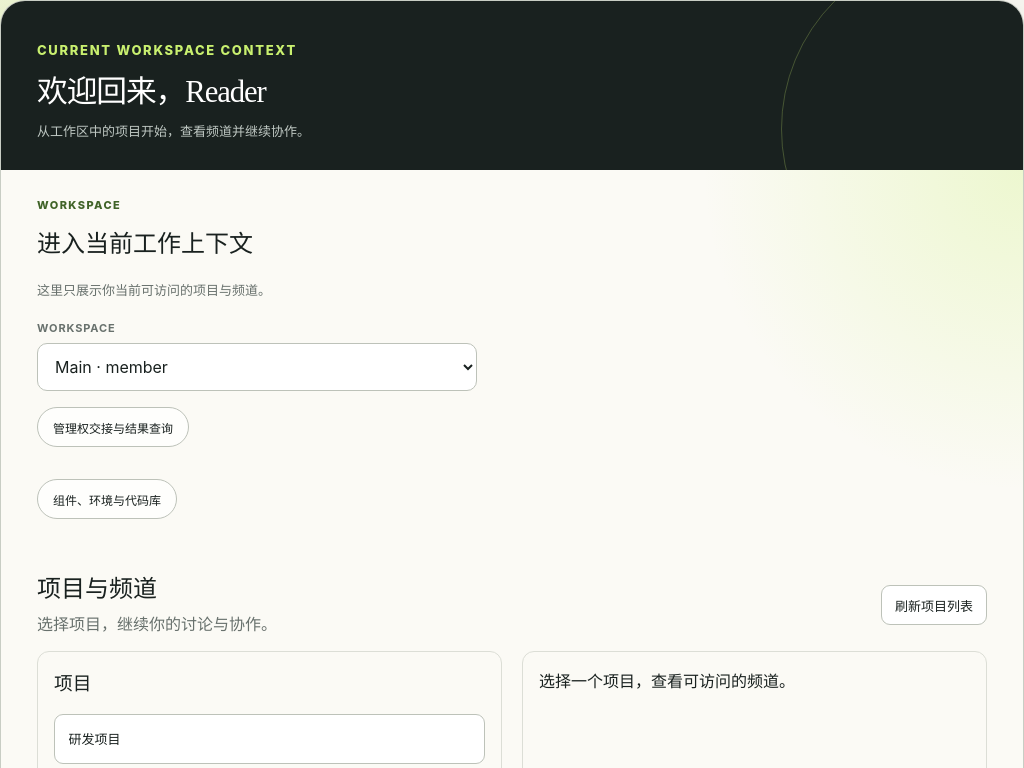
Test case: Workspace discovery › replaces pages and re-fetches previous pages instead of keeping old results
Click the button "研发项目": click(95, 739) 54,714 -> 485,764
(page scrolled)
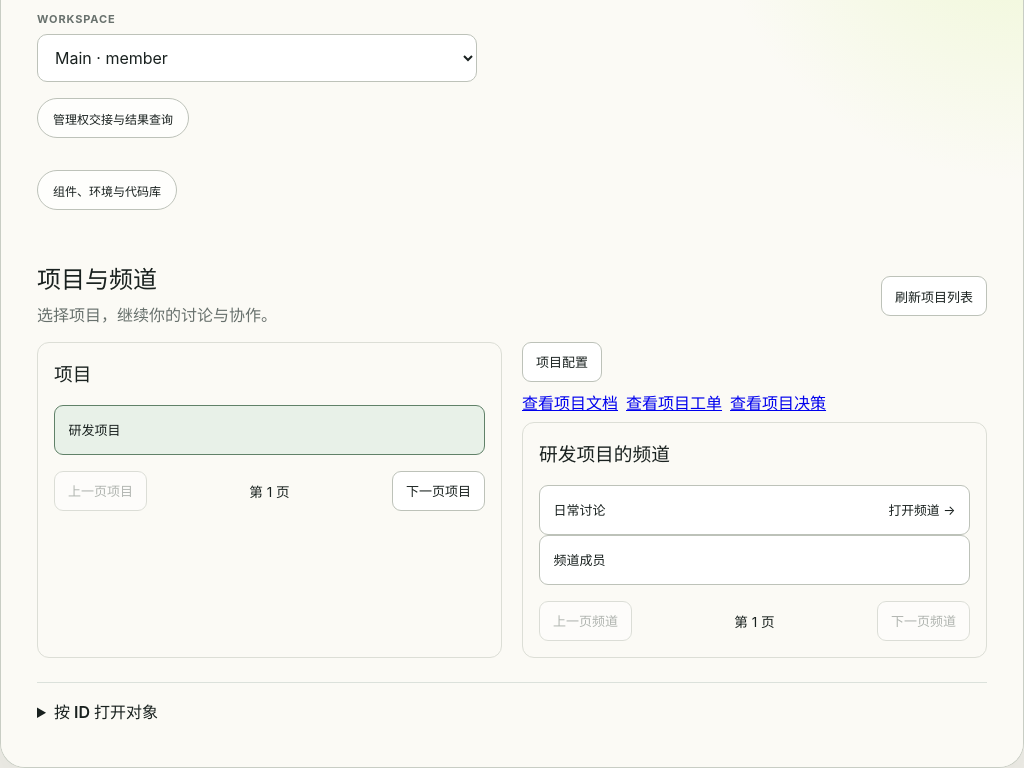
Expected: the text "日常讨论" is shown, 554,500 -> 606,519
Click the button "下一页项目": click(438, 490) 392,470 -> 485,510
(page scrolled)
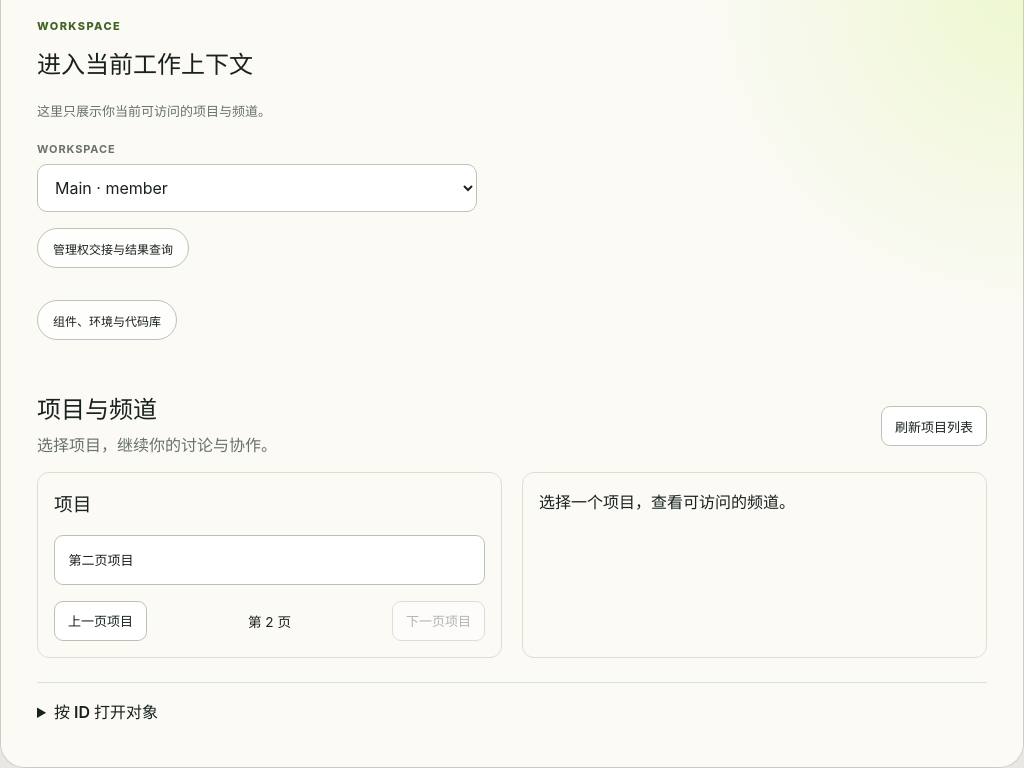
Expected: the button "日常讨论" is gone
Expected: the button "研发项目" is gone
Expected: the button "第二页项目" is shown, 54,534 -> 485,584
Click the button "上一页项目": click(100, 620) 54,600 -> 147,640
(page scrolled)
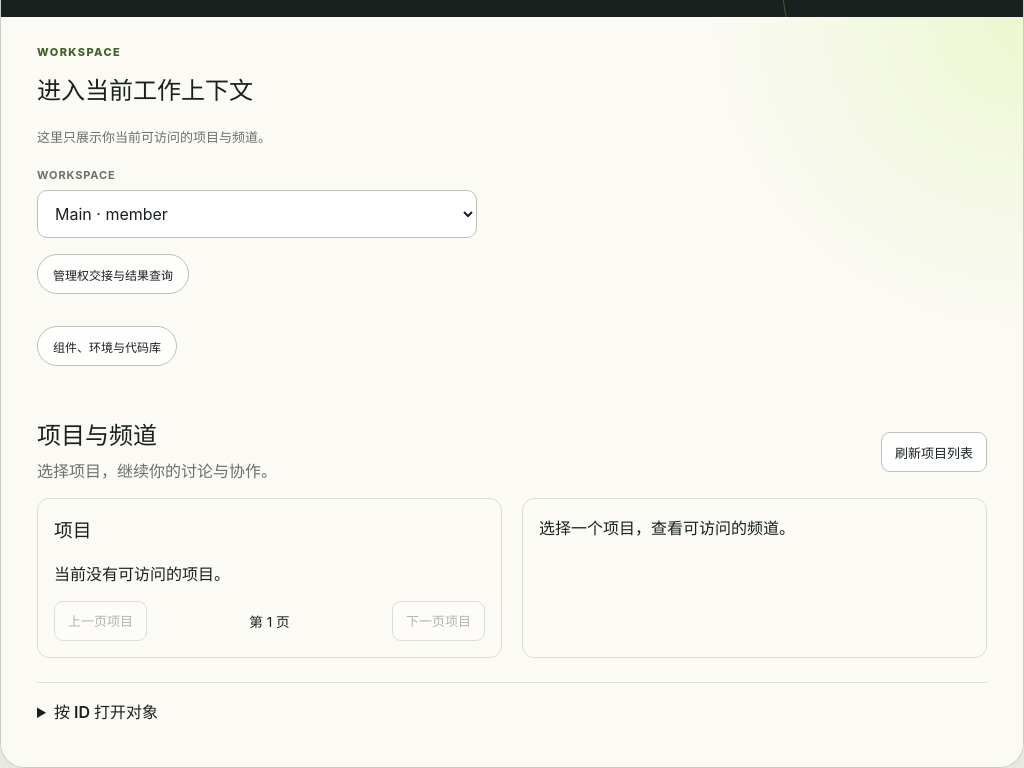
Expected: the button "研发项目" is not shown
Expected: the text "当前没有可访问的项目。" is shown, 54,564 -> 230,584
